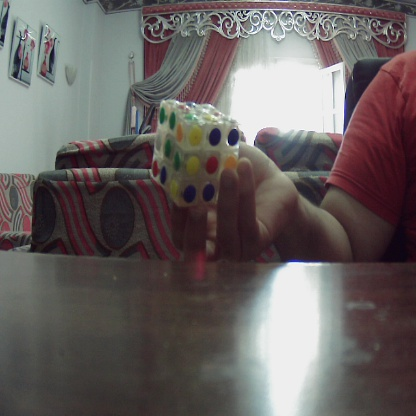Rubix Cube: (157, 97, 237, 205)
